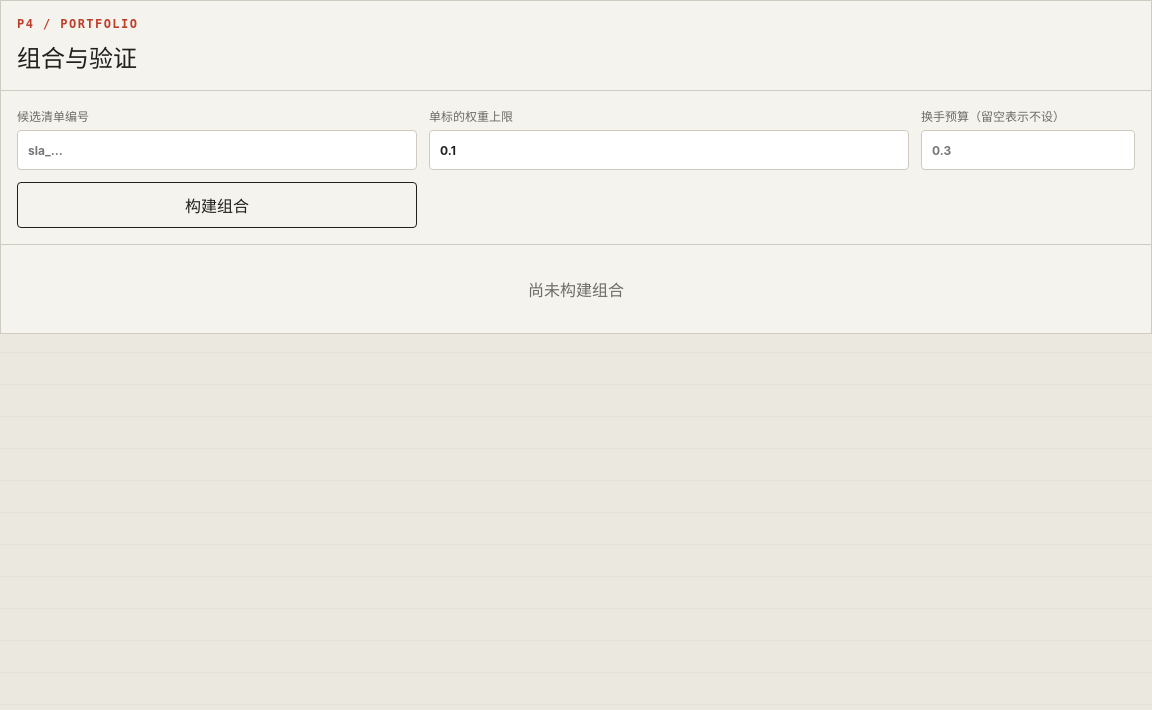
Test: PortfolioPage › constructs from the form and renders the weights the contract sent
Step 1. Type "sla_typed" into the field labelled "候选清单编号" → (217, 150), box x1=17 y1=130 x2=417 y2=170
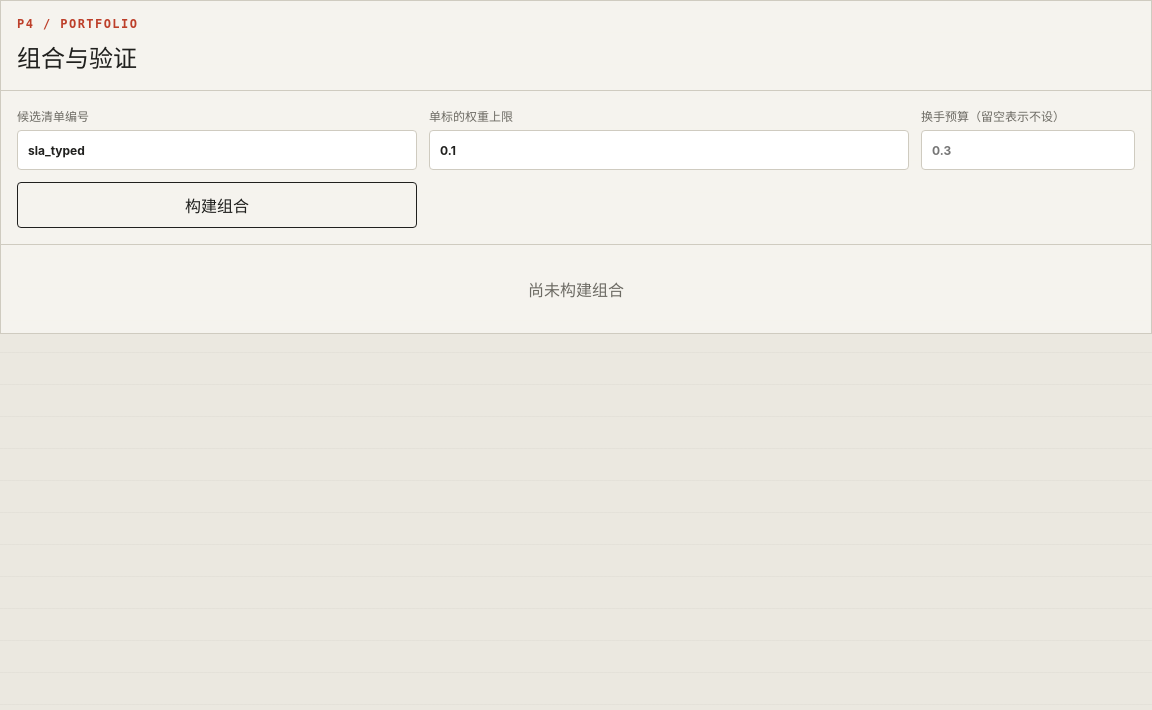
Step 2. Click the button "构建组合" → (217, 205), box x1=17 y1=182 x2=417 y2=228
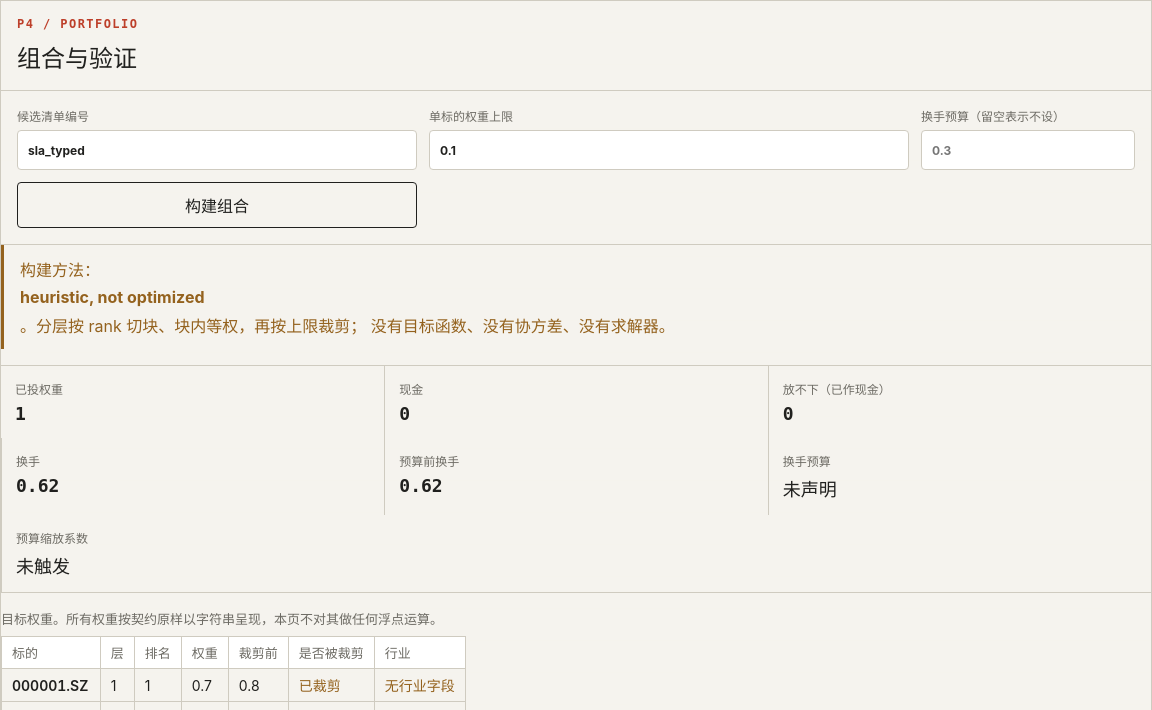
Expected: the column heading "000001.SZ" is shown, x1=2 y1=668 x2=100 y2=702
